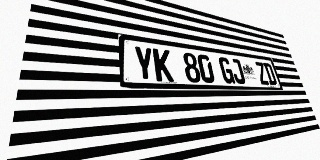0: (196, 54, 215, 83)
8: (182, 52, 202, 83)
D: (263, 63, 278, 85)
G: (218, 57, 236, 84)
J: (229, 58, 246, 84)
K: (153, 48, 174, 82)
Y: (133, 45, 156, 81)
Z: (254, 61, 270, 85)
